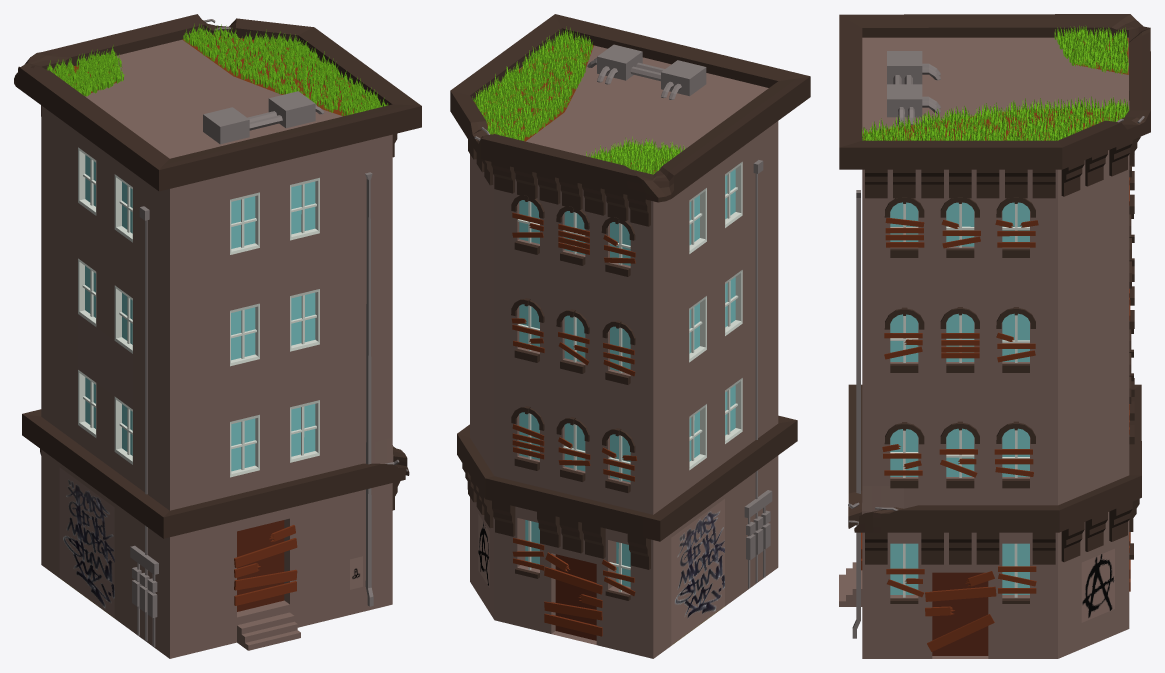
File: Building_02_destroy_simple.fbx
3 renders of one model, left to right at view 1: azimuth 30°, elevation 25°; view 2: azimuth 150°, elevation 25°; view 3: azimuth 270°, elevation 25°, orthographic. The views are drawn at different scales.
Visible parts, largest first — view 1: Building02, Dirt_plan; view 2: Building02, Dirt_plan; view 3: Building02, Dirt_plan.
Part boxes in pixels (x1,y1,x2,y2): Building02: [14, 14, 421, 658]; Dirt_plan: [182, 34, 369, 116]; Building02: [450, 14, 810, 658]; Dirt_plan: [474, 40, 593, 141]; Building02: [839, 14, 1150, 658]; Dirt_plan: [863, 109, 1122, 140].
Bounding box in the file's own units: 586 × 1082 × 581.
